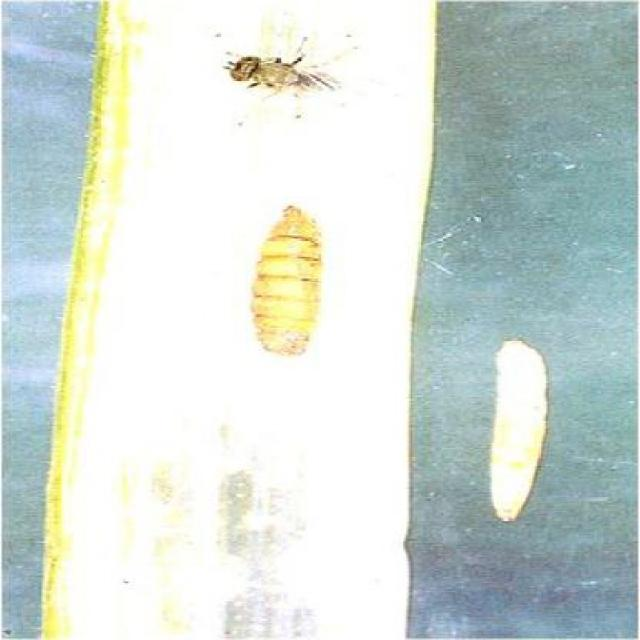whorl-maggot: (468, 329, 564, 528), (240, 192, 345, 371)
